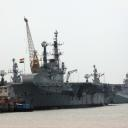Portanaves: (11, 30, 125, 110)
